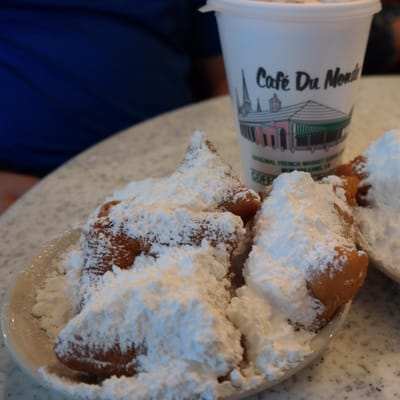pizza: (200, 0, 381, 199)
